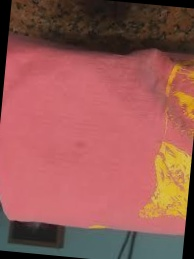oil: (67, 138, 91, 161)
